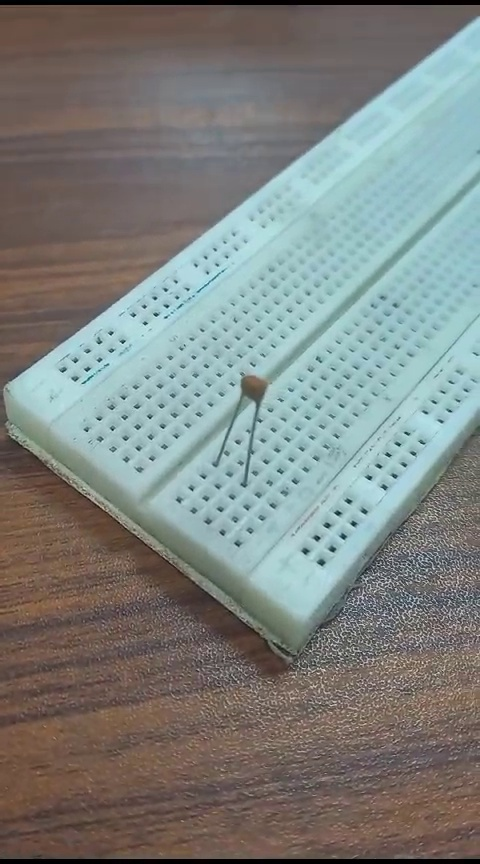ceramic capacitor: (222, 368, 290, 459)
